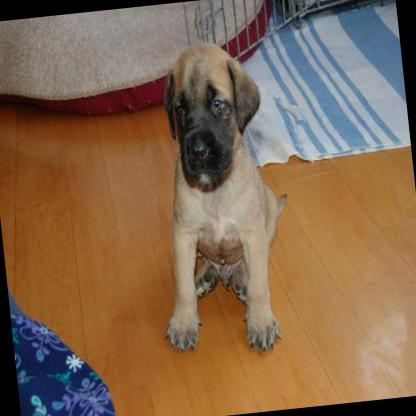bull_mastiff: (131, 32, 305, 360)
